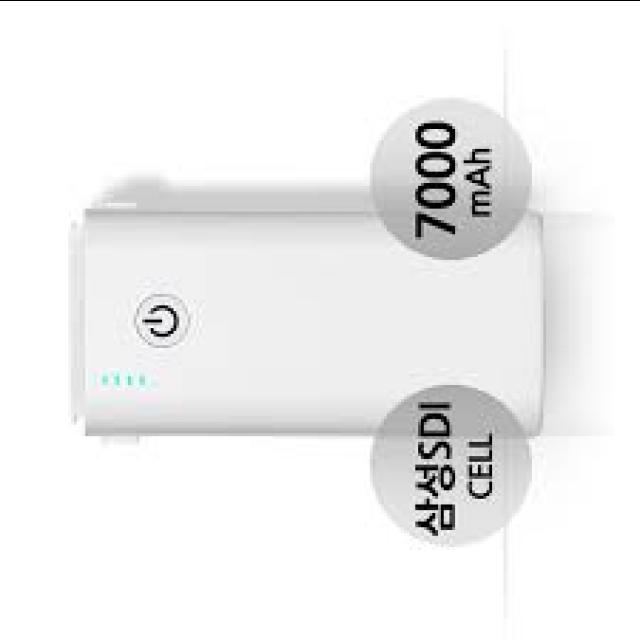power_bank: (66, 202, 545, 436)
